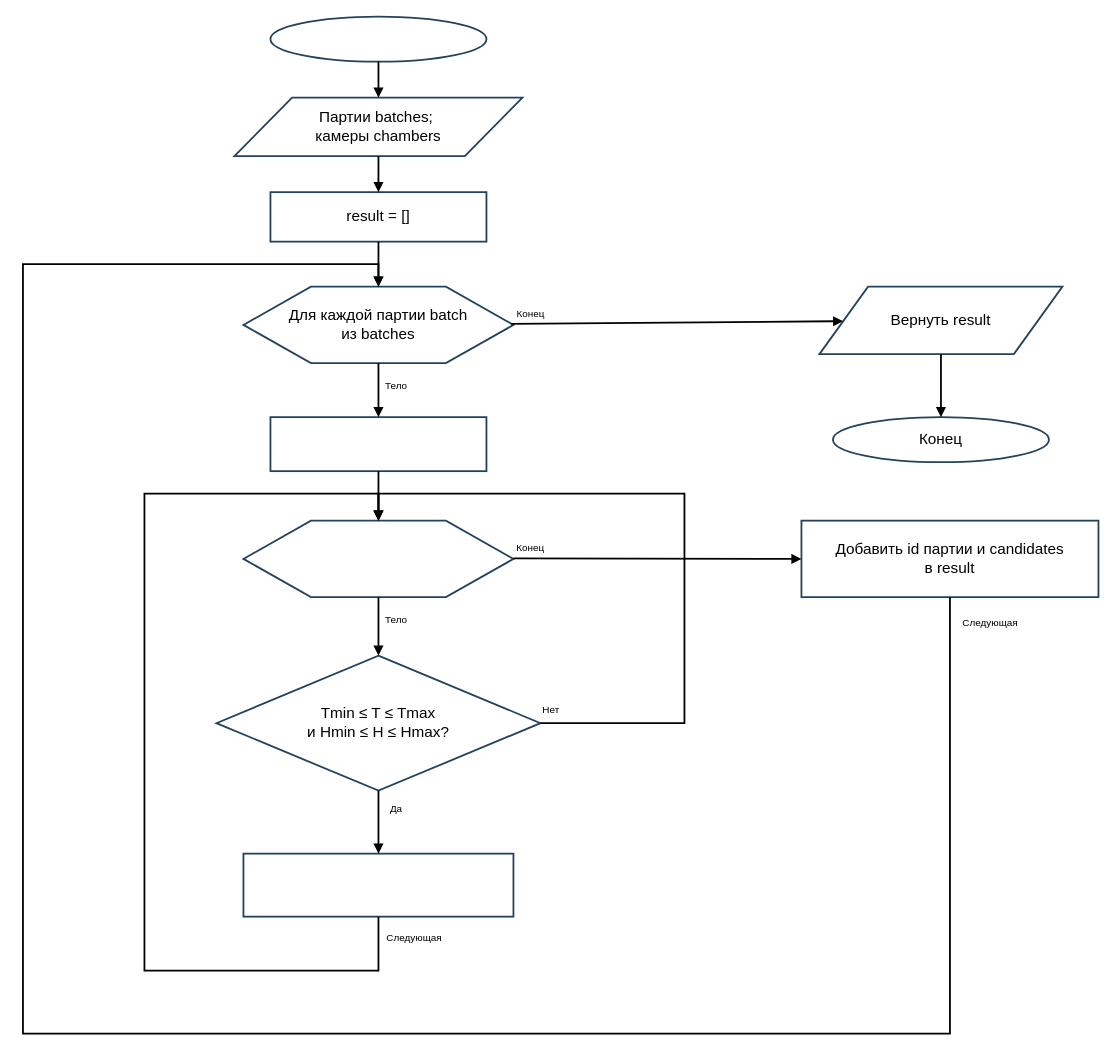
Some shapes in this 1114 by 1057 pixel diagram are drawn without their labels. The box of each missing label's shape, as (x1, y1, x2, y2) in pixels:
candidates = []: (269, 416, 487, 472)
Для каждой камеры chamber из chambers: (242, 519, 514, 598)
Добавить id камеры в candidates: (242, 852, 514, 917)
Начало: (269, 15, 487, 62)
